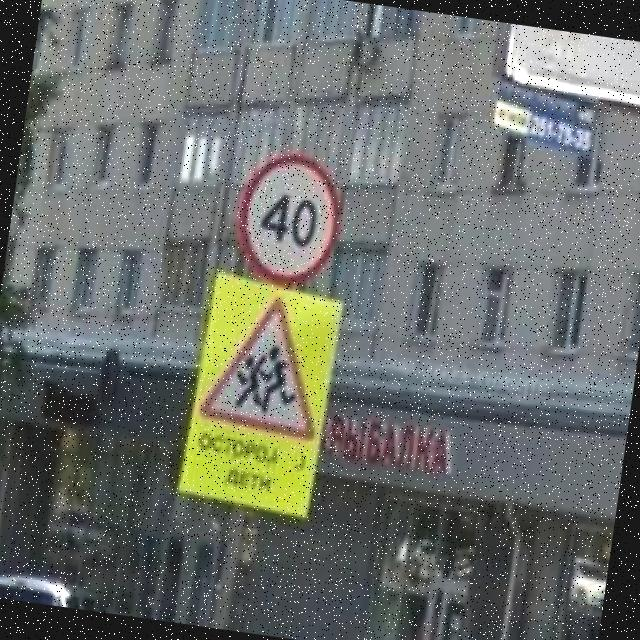Dzieci: (198, 290, 336, 444)
Ograniczenie predkosci do 40: (228, 146, 350, 296)
